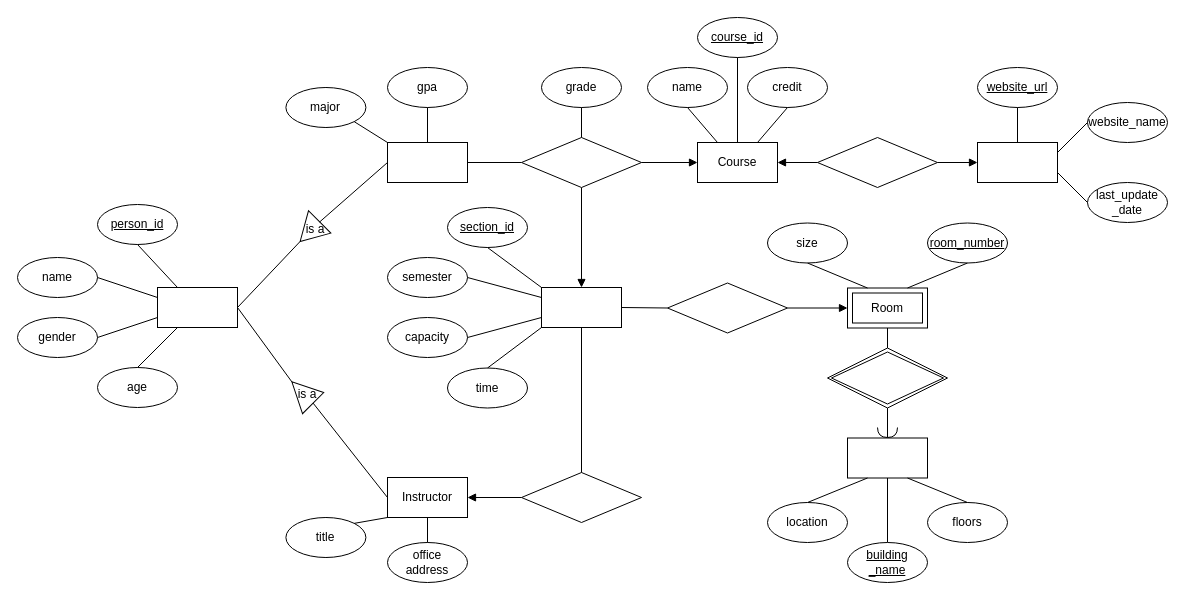
This 1185x600 diagram has some shape labels left out. The shapes that lost their labels are listed below. From the top down, each one's centre as x and y in pixels, then its label:
At [427,162]: "Student".
At [581,162]: "enroll".
At [877,162]: "link".
At [1017,162]: "Website".
At [197,307]: "Person".
At [581,307]: "Section".
At [727,307]: "located".
At [887,377]: "affiliation".
At [887,457]: "Building".
At [581,497]: "teach".
